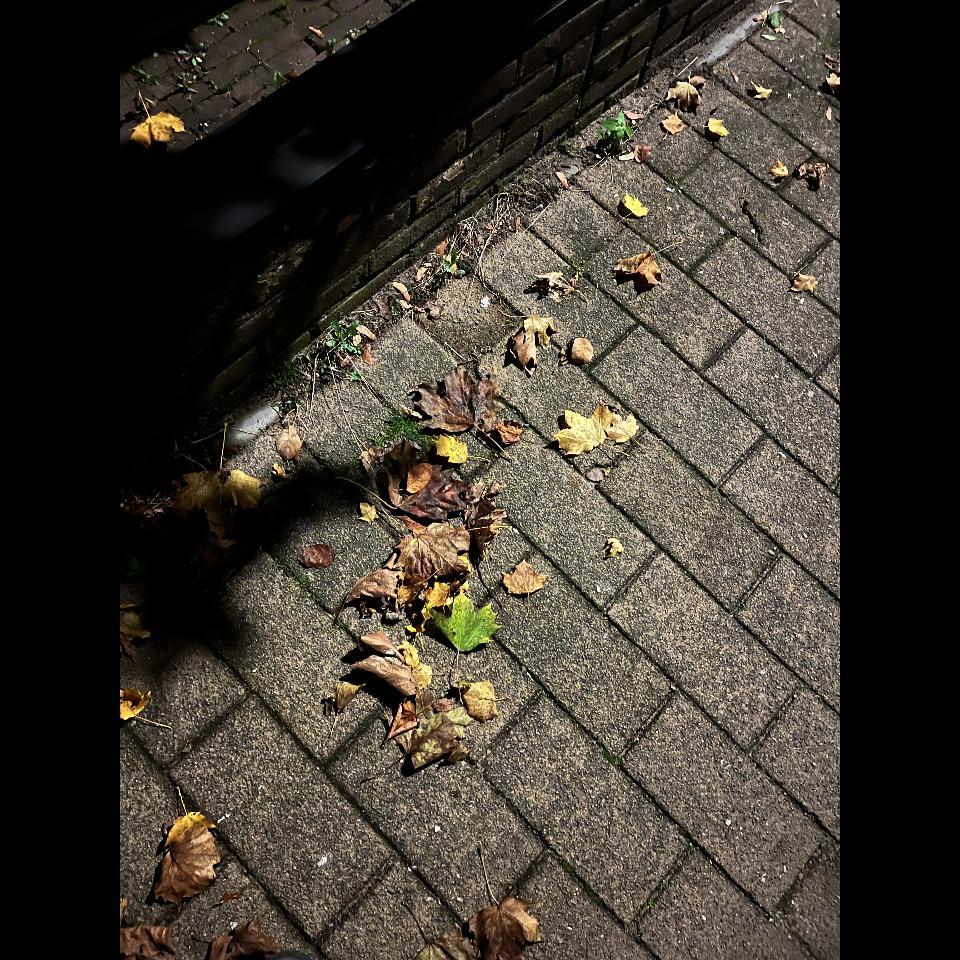weed: (373, 412, 431, 451), (326, 320, 371, 359), (598, 111, 632, 151)
